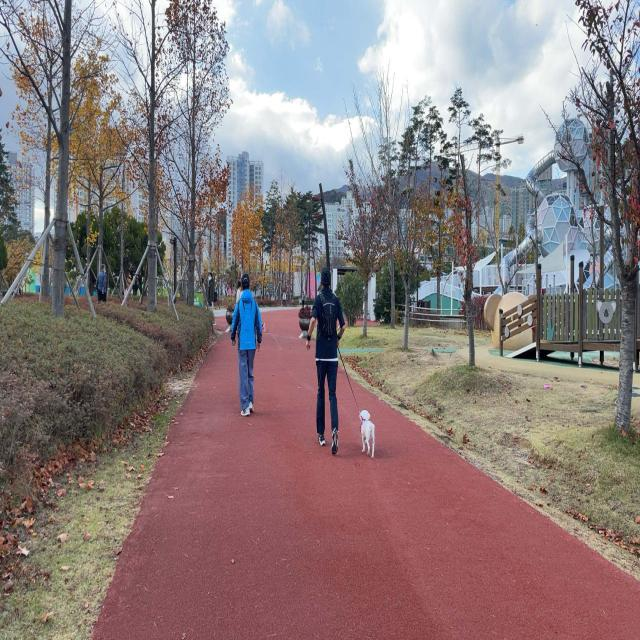Leashed_Dog: (330, 338, 376, 460)
